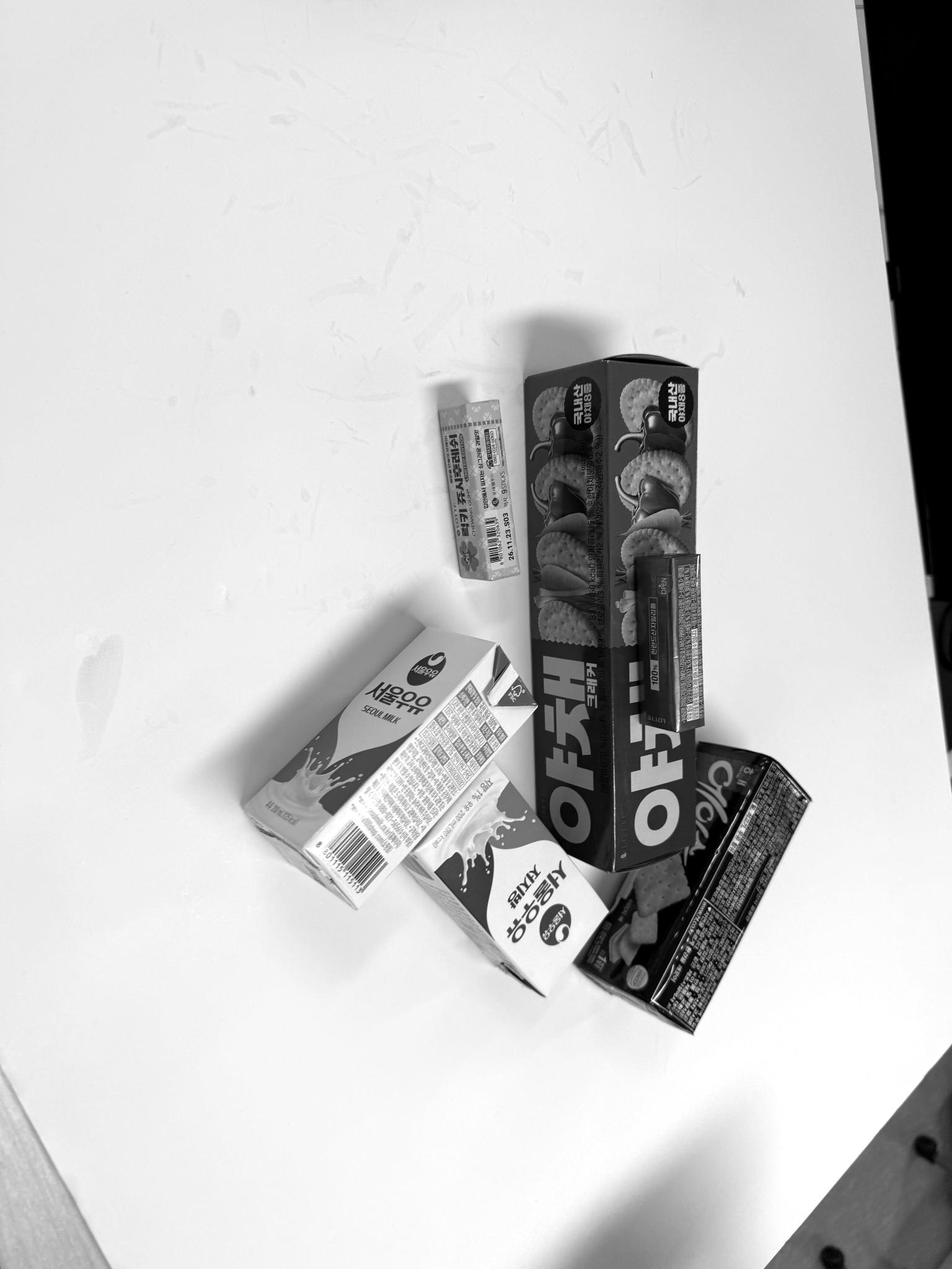cracker_ace: (579, 742, 810, 1033)
cracker_vege: (521, 352, 701, 874)
gum_green: (636, 555, 704, 733)
gum_yellow: (439, 400, 520, 581)
milk_blue: (407, 764, 606, 995)
milk_green: (246, 629, 535, 909)
